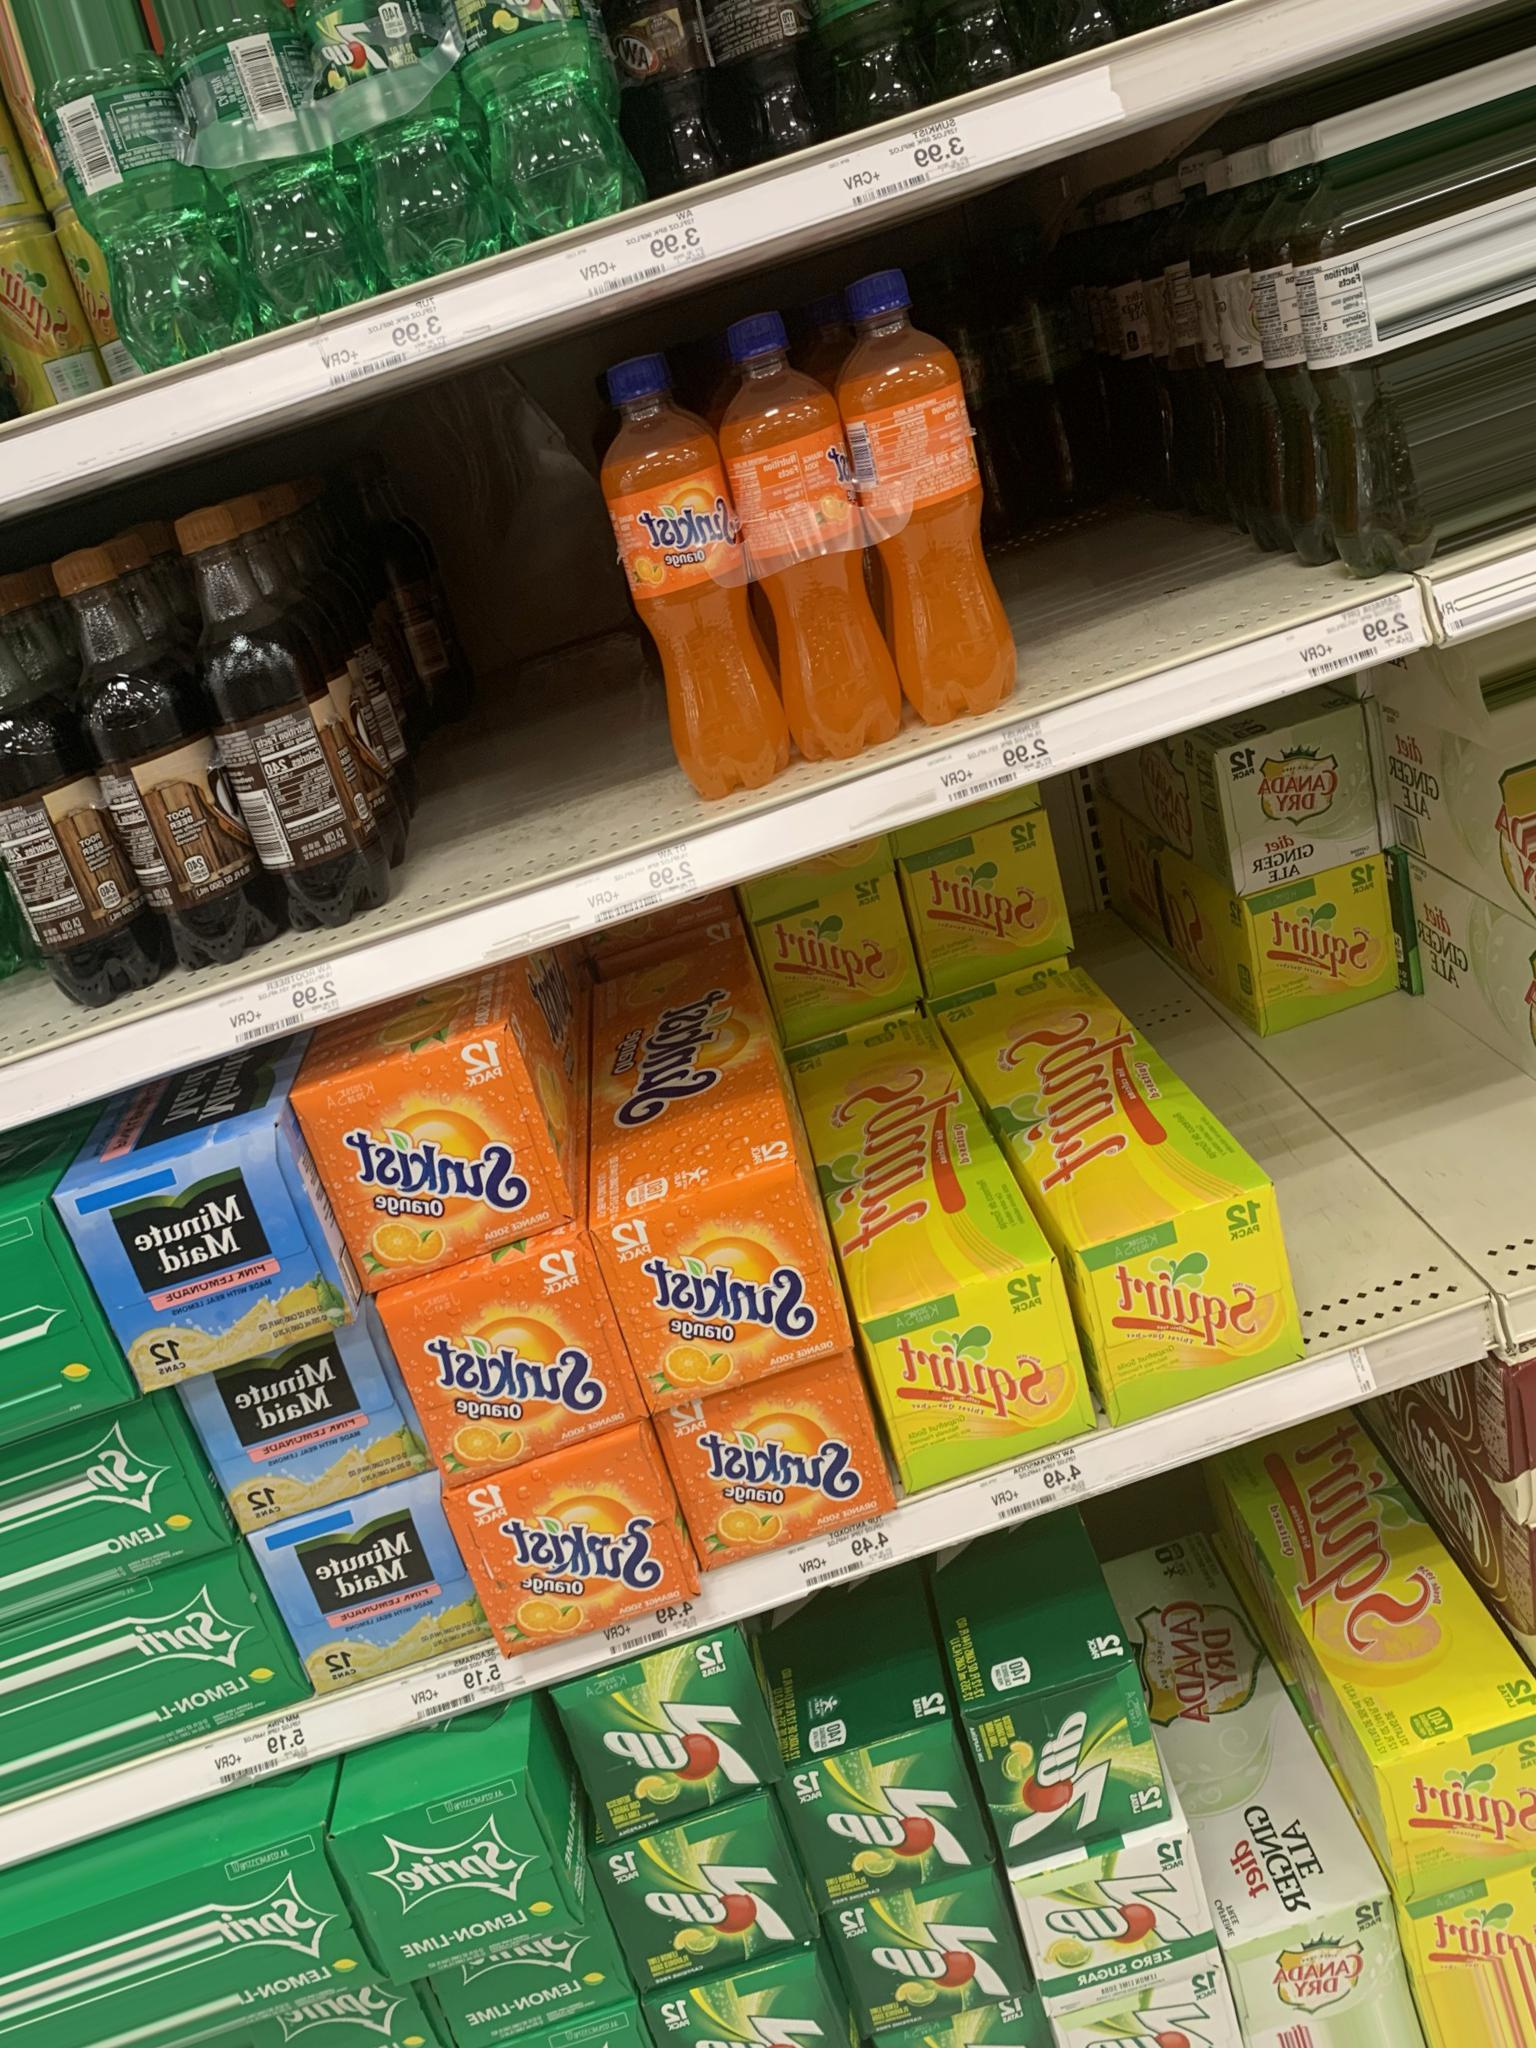7up soda: (553, 1688, 771, 1787), (971, 1719, 1167, 1816), (792, 1764, 979, 1859), (349, 1830, 534, 1875)
AW soda: (174, 531, 365, 906)
\: (599, 1864, 829, 1966)
minute maid soda: (65, 1200, 329, 1338), (252, 1559, 507, 1666), (182, 1376, 411, 1480)
sunkist soda: (854, 285, 1028, 639), (603, 374, 758, 760), (742, 355, 878, 751), (447, 1485, 703, 1625), (298, 1101, 544, 1242), (620, 1216, 833, 1369), (411, 1311, 657, 1426), (665, 1419, 902, 1529)
